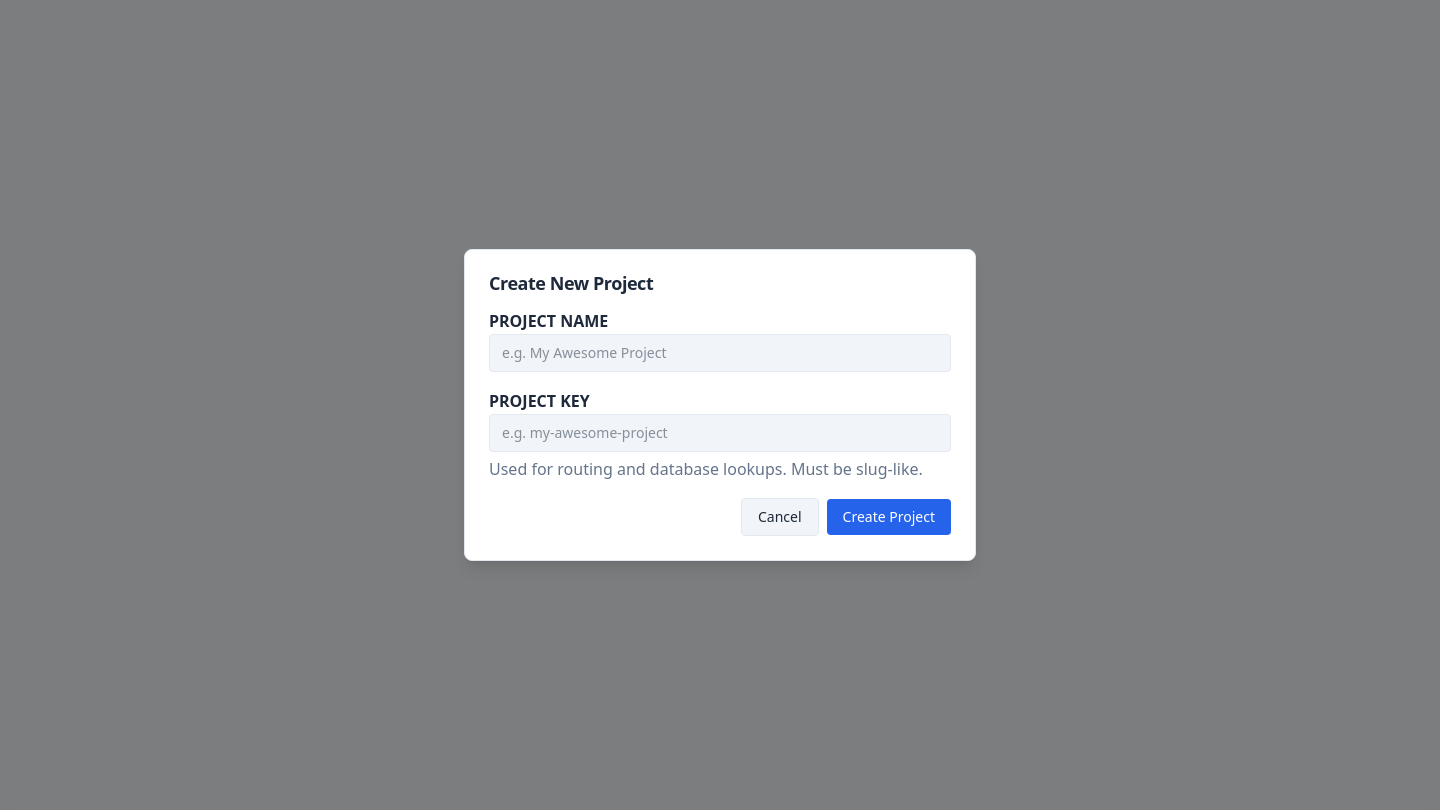
CreateProjectDialog › auto-generates slug from project name
The width and height of the screenshot is (1440, 810).
Type "Hello World" into the field with placeholder "e.g. My Awesome Project" at (720,353), box [489, 334, 951, 372]
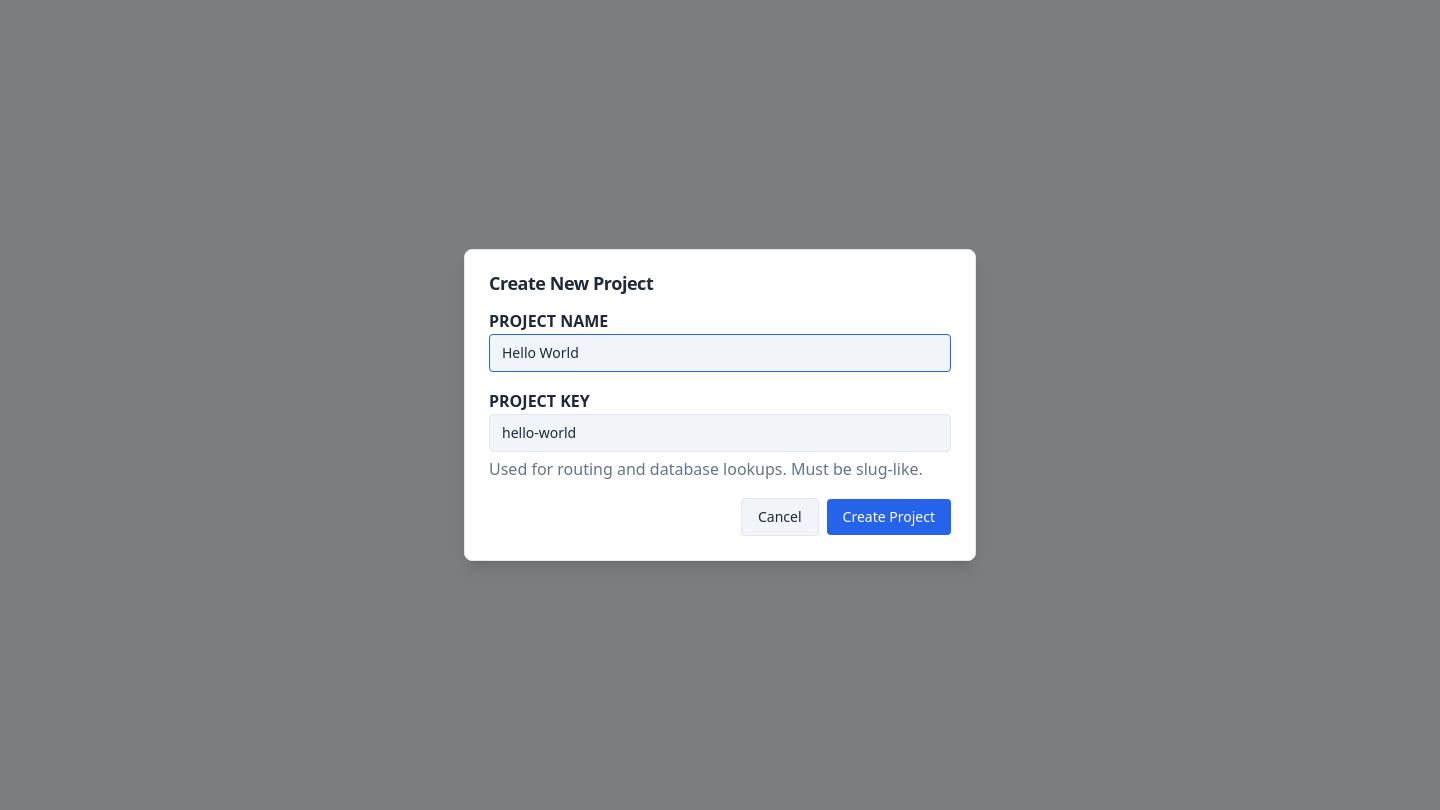
Result: the field with placeholder "e.g. my-awesome-project" below "PROJECT KEY" holds "hello-world" at [489, 414, 951, 452]
